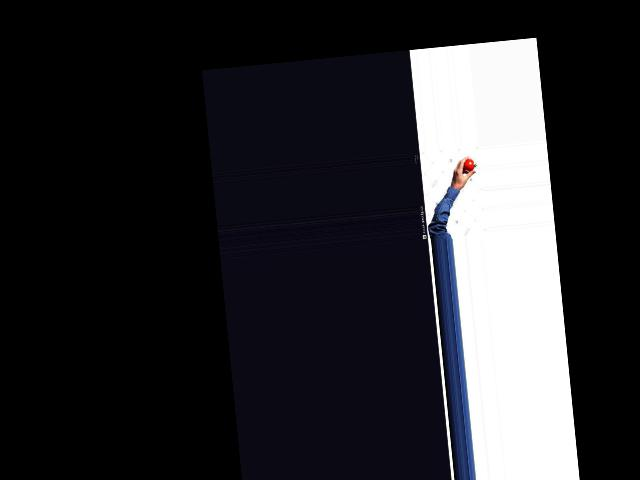tomato: (463, 158, 474, 171)
